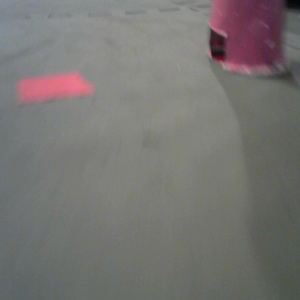right: (204, 1, 293, 80)
